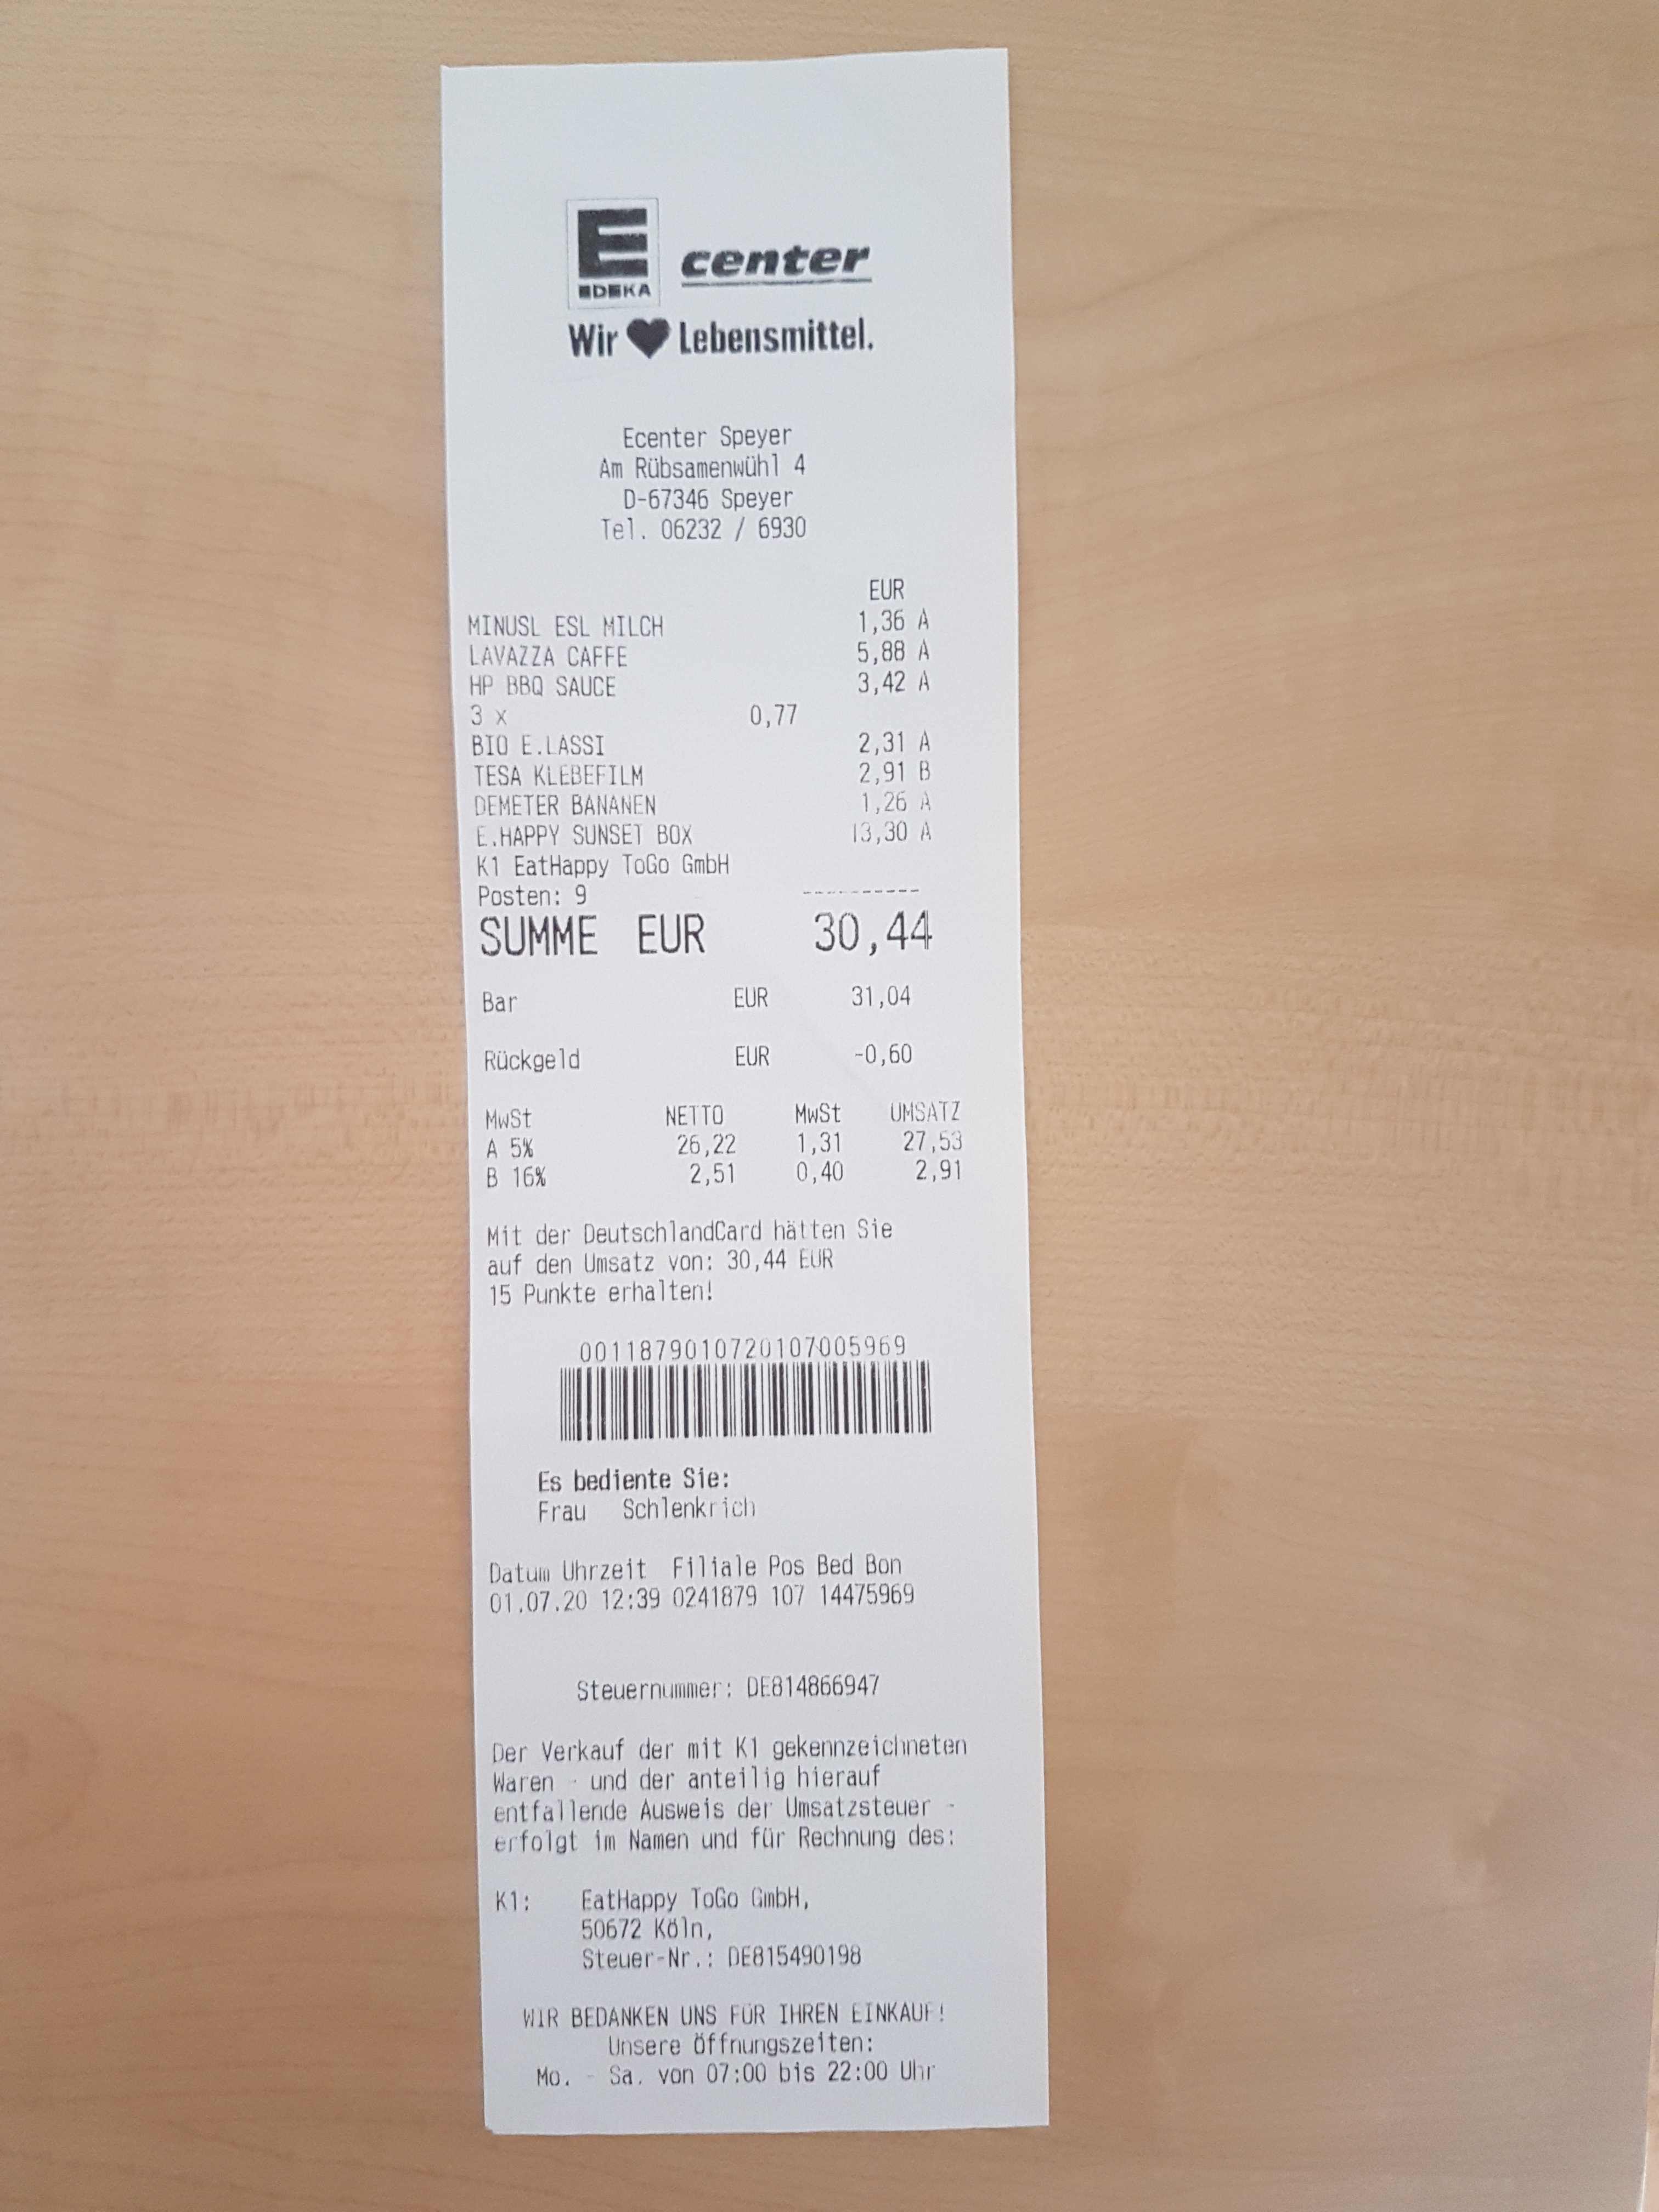Product: (465, 604, 678, 646), (472, 756, 653, 791), (465, 822, 718, 846), (467, 669, 631, 700), (465, 639, 638, 669), (467, 792, 676, 815), (471, 728, 613, 758)
